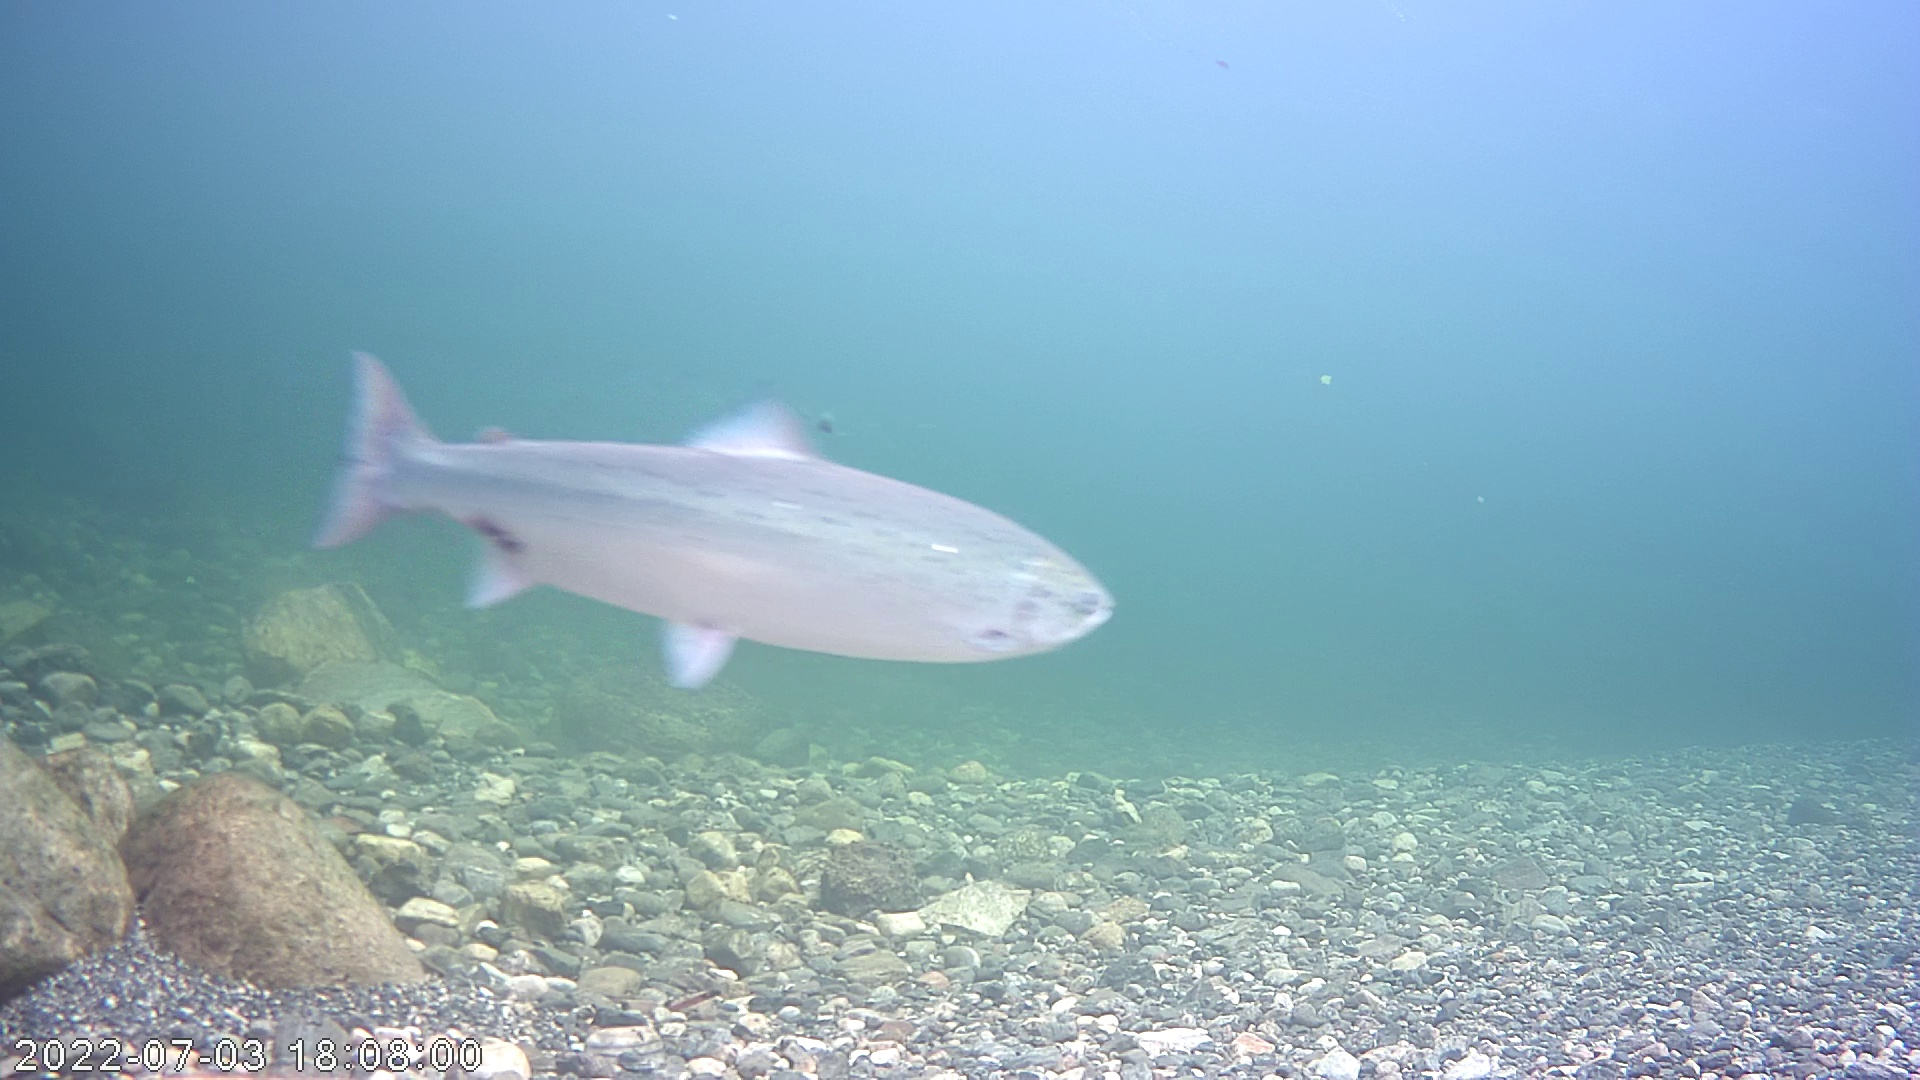salmon: (306, 347, 1120, 692)
